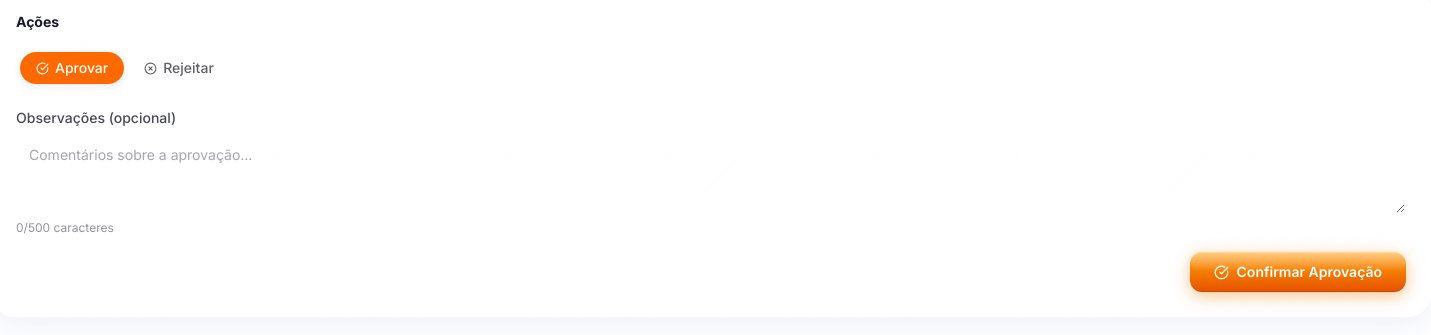
Test: ApprovalForm › tab switching › switches to reject form when Rejeitar tab is clicked
Step 1. Click the button "Rejeitar" → (179, 68), box [128,52,230,84]
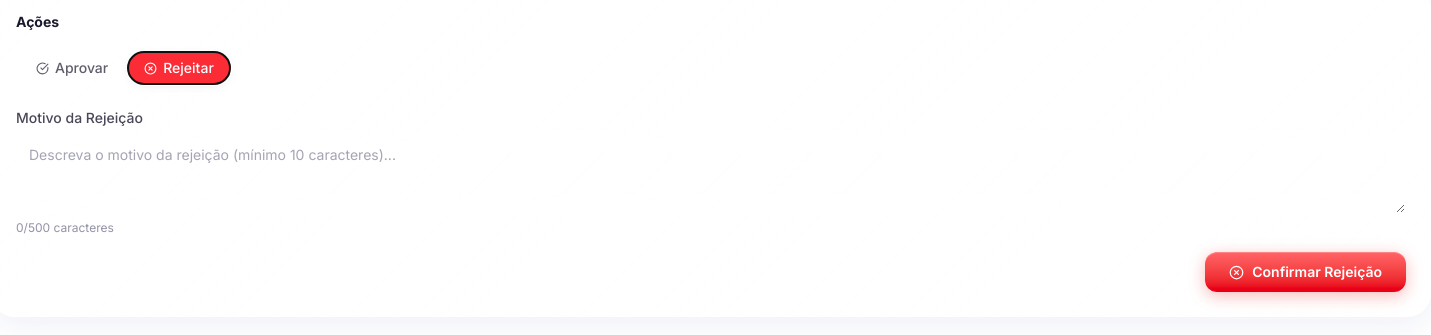
Now the text box with placeholder "Descreva o motivo da rejeição (mínimo 10 caracteres)..." is shown, box [16,134,1406,214]
